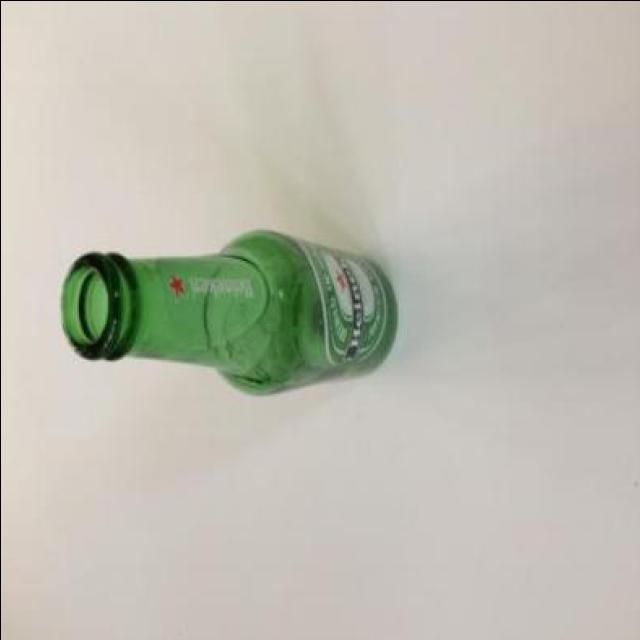kaca: (59, 229, 396, 390)
